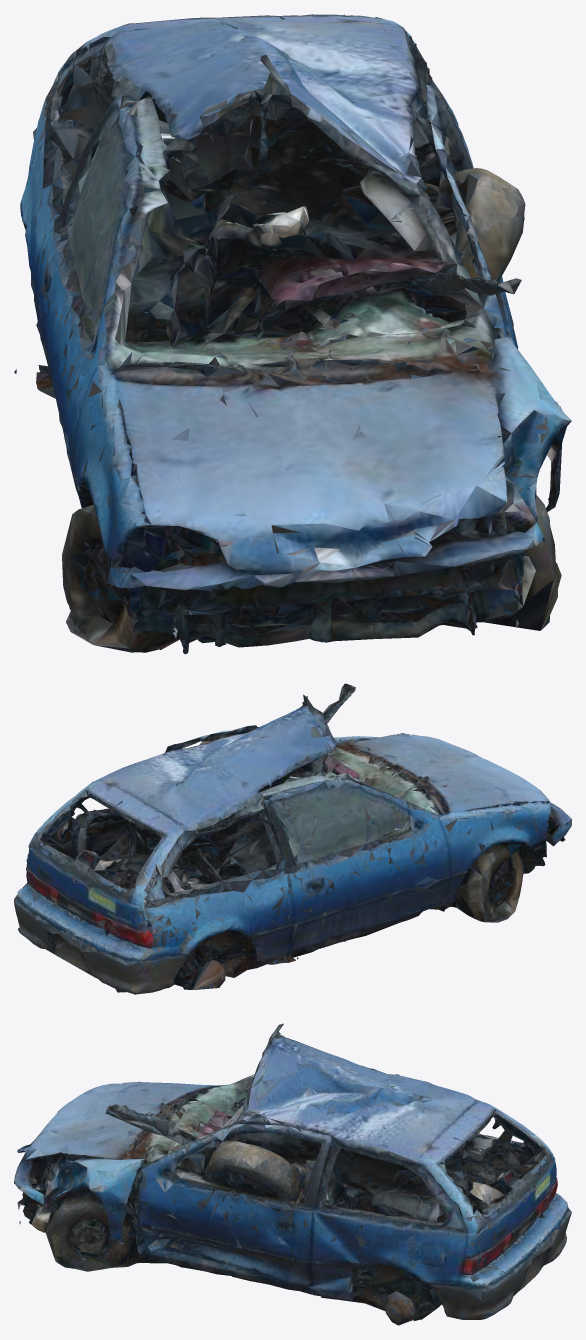
Rendered from car_scan_07.glb.
3 renders of one model, top to bottom at view 1: azimuth 30°, elevation 25°; view 2: azimuth 150°, elevation 25°; view 3: azimuth 270°, elevation 25°, orthographic. The views are drawn at different scales.
Visible parts, largest first — view 1: Object_2; view 2: Object_2; view 3: Object_2.
Boxes of the visible parts, x1,y1,x2,y2 form: Object_2: (14,14,571,654); Object_2: (14,683,571,994); Object_2: (14,1023,571,1325).
Size of the model in its own units: 3.41 by 2.08 by 4.6.
1 material, 1 textured.
